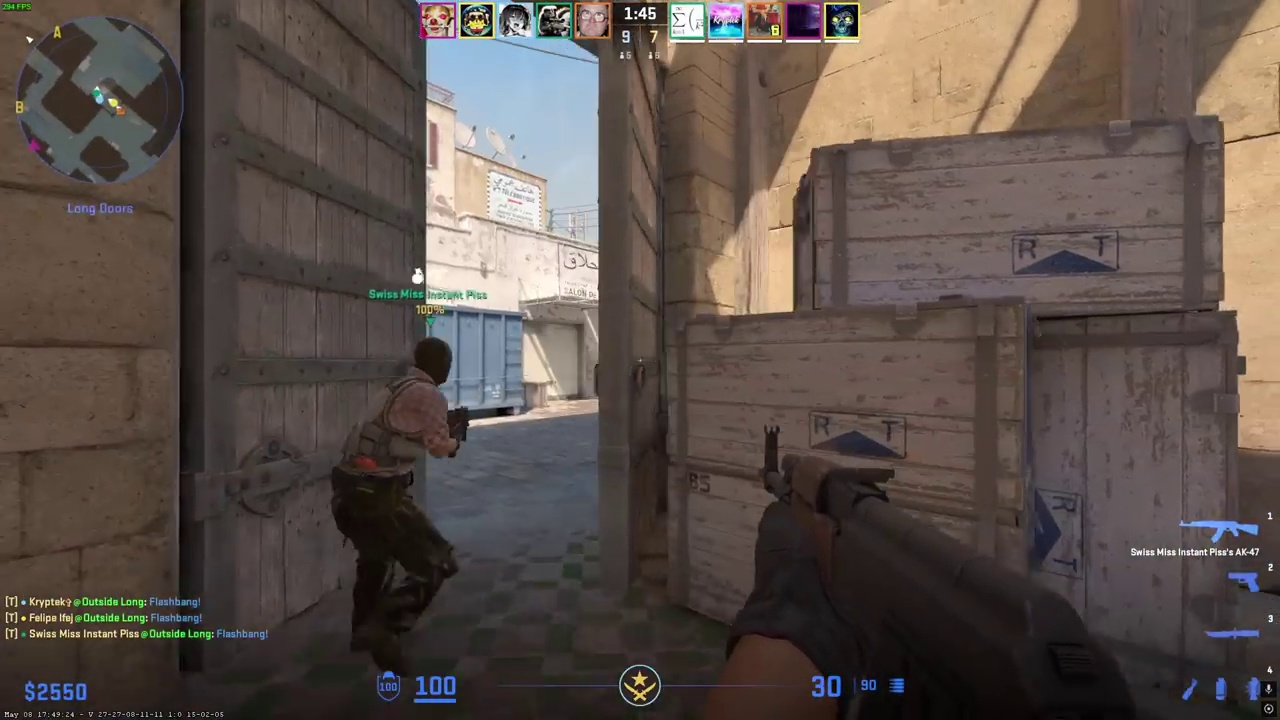Terrorist: (336, 336, 461, 678)
